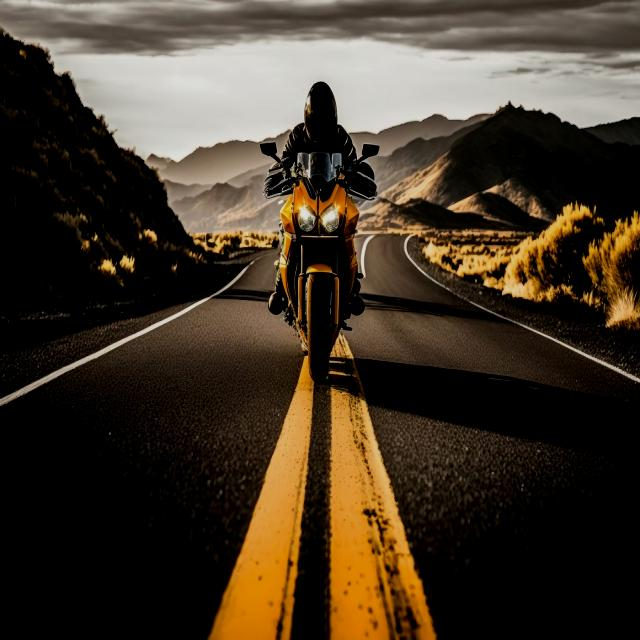MOTORCYCLE: (278, 157, 354, 374)
